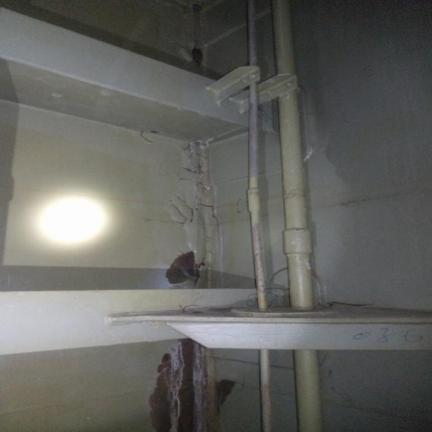karat: (149, 340, 195, 431)
